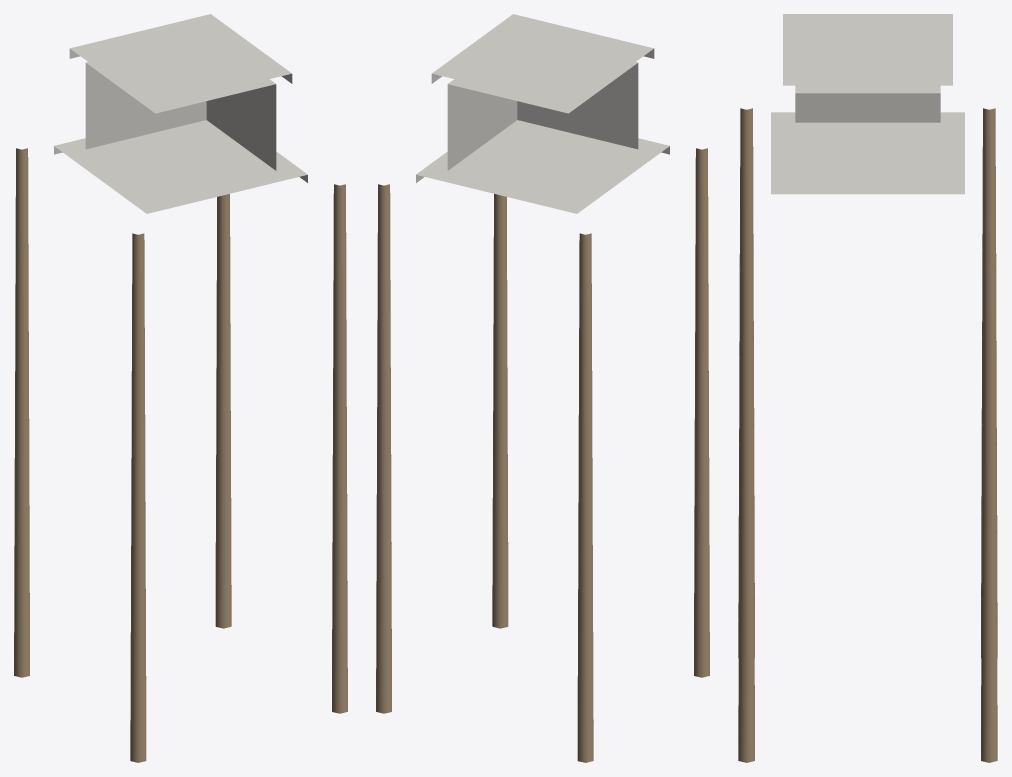
The model's file is fire_tower.glb.
3 renders of one model, left to right at view 1: azimuth 30°, elevation 25°; view 2: azimuth 150°, elevation 25°; view 3: azimuth 270°, elevation 25°, orthographic. The views are drawn at different scales.
Parts seen in each view (by area): view 1: Cabin, Frame; view 2: Cabin, Frame; view 3: Cabin, Frame.
Boxes of the visible parts, <box> form: Cabin: <box>54,14,307,213</box>; Frame: <box>14,148,347,762</box>; Cabin: <box>416,14,669,213</box>; Frame: <box>376,148,709,762</box>; Cabin: <box>771,14,964,194</box>; Frame: <box>738,108,997,762</box>.
Size of the model in its own units: 6.48 by 17.95 by 6.42.
